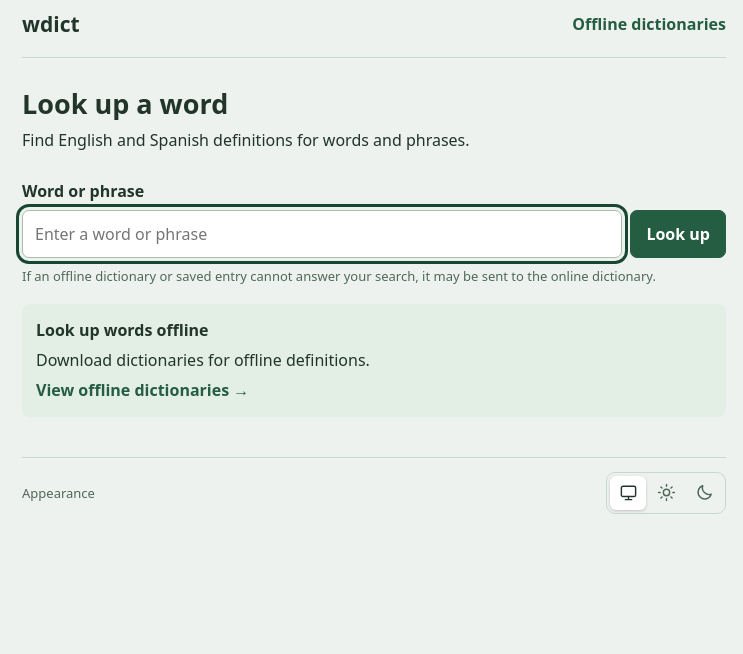
Test case: lookup and offline dictionary UI › given_new_search_when_old_event_arrives_then_it_is_ignored
What coordinates should you click on to do the following:
click the button "Look up"
I would click on:
 (678, 234)
Its box is [630,210,726,258].
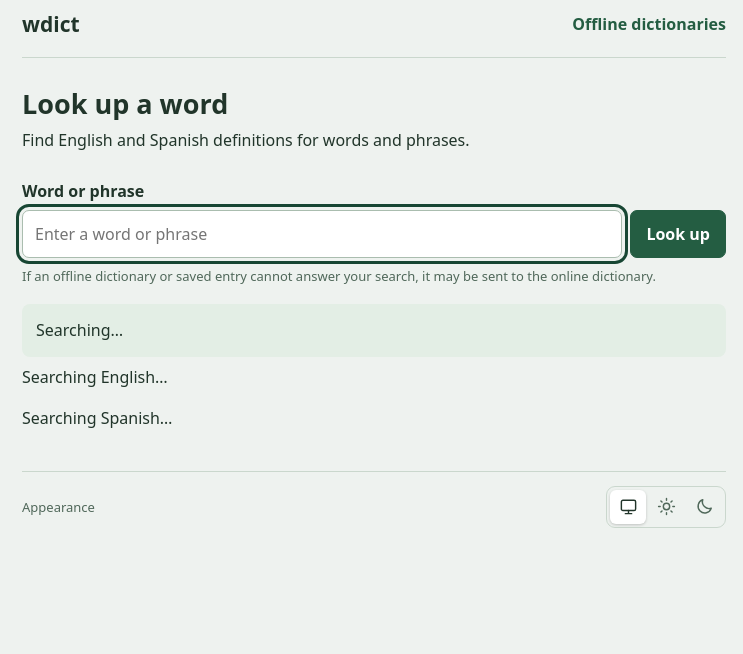
What coordinates should you click on to do the following:
click the button "Look up"
I would click on:
 (678, 234)
Its box is [630,210,726,258].
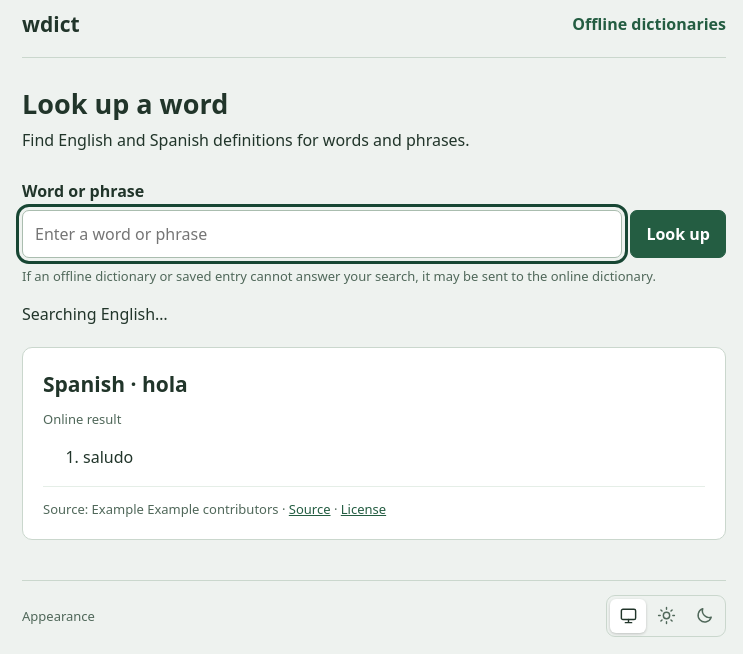
Now the list item "saludo" is shown, box [83,446,133,468]
